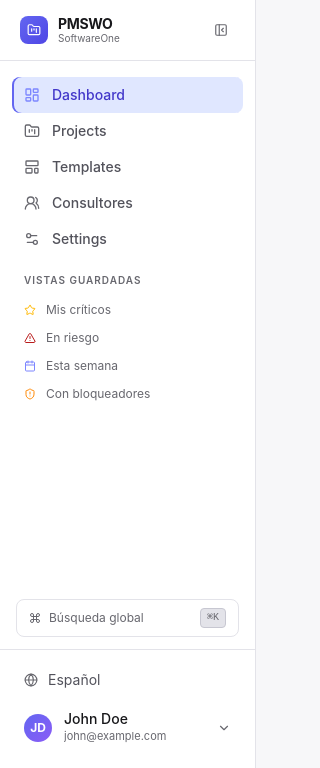
Scenario: MainNav › shows multiple roles for users with multiple roles
Click the button "JD John Doe john@example.com": [128, 728] box [12,704,243,752]
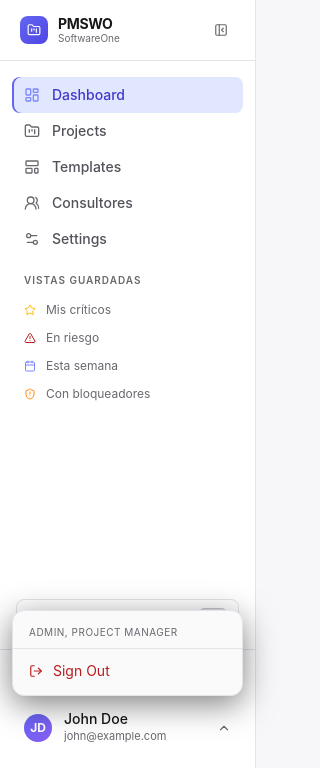
Result: the text "ADMIN, PROJECT MANAGER" is shown at [29,626,178,638]
